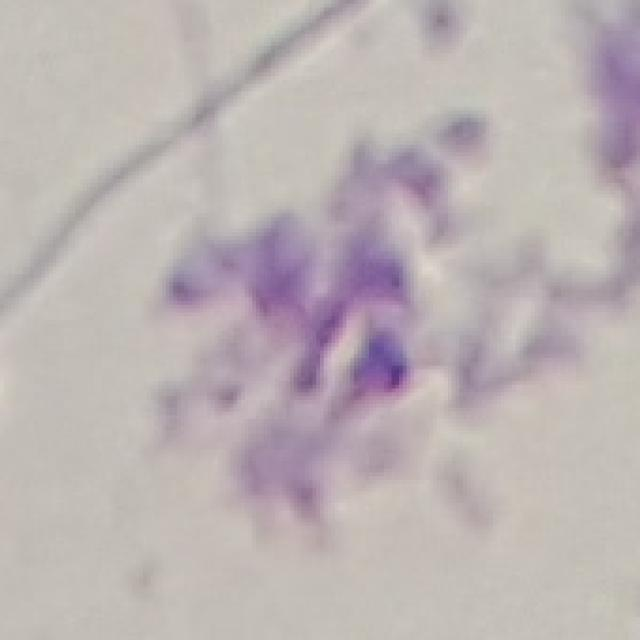non-sperm: (164, 152, 514, 478)
